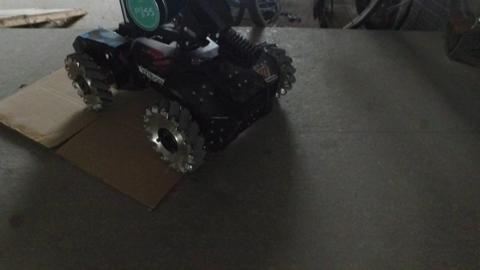chariot: (59, 1, 310, 183)
